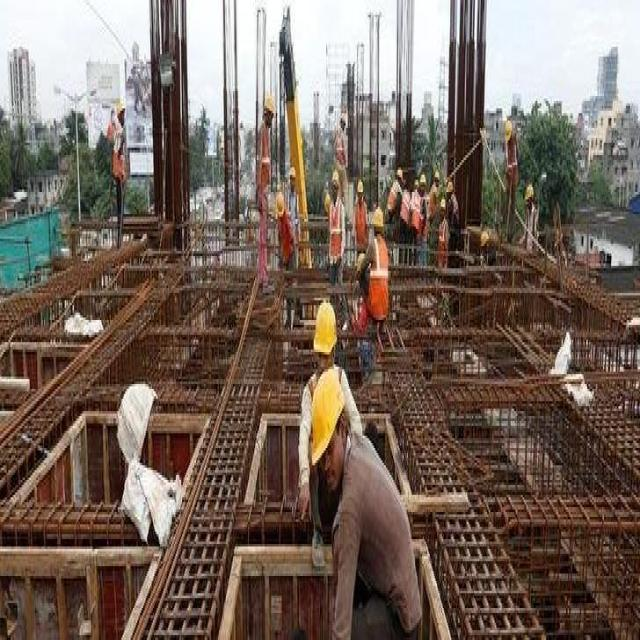Reflective-Jacket: (370, 239, 390, 322), (256, 123, 272, 195), (329, 197, 344, 256), (438, 212, 449, 261)
Safety-Helmet: (116, 374, 158, 468), (308, 364, 346, 466), (313, 290, 338, 354), (263, 84, 277, 118), (372, 202, 385, 234), (504, 116, 516, 145), (275, 187, 286, 217), (114, 94, 126, 118), (524, 177, 534, 202), (331, 168, 341, 190), (289, 162, 298, 185), (439, 194, 446, 212)
